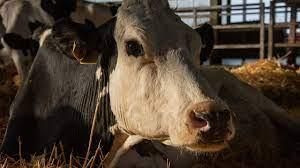cow: (0, 0, 241, 161)
